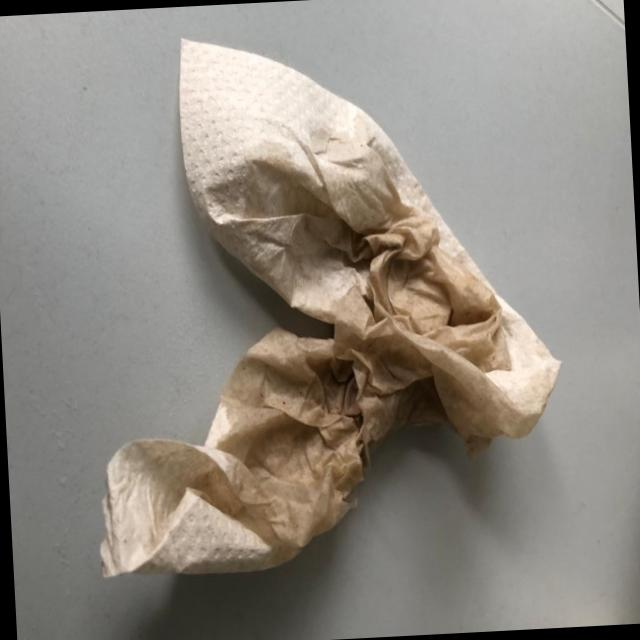organic waste: (65, 11, 575, 595)
